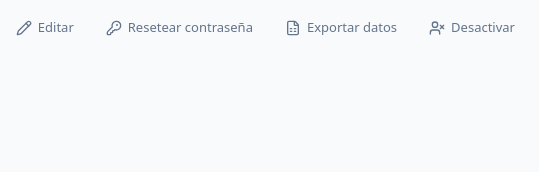
it: UserRowActions › shows a generic error message when the failure is not an ApiError
Step 1. Click the button "Desactivar" → (472, 28), box [417,12,527,44]
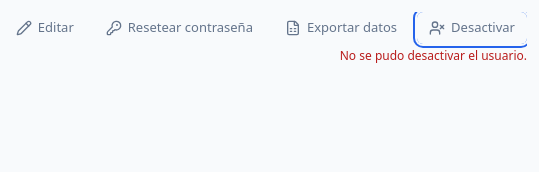
Expected: the text "No se pudo desactivar el usuario." is shown, [340,48,527,64]
